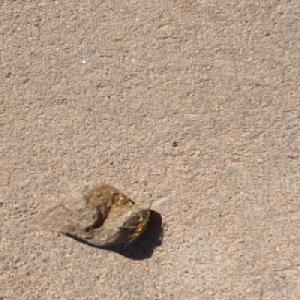Rock: (31, 180, 153, 248)
